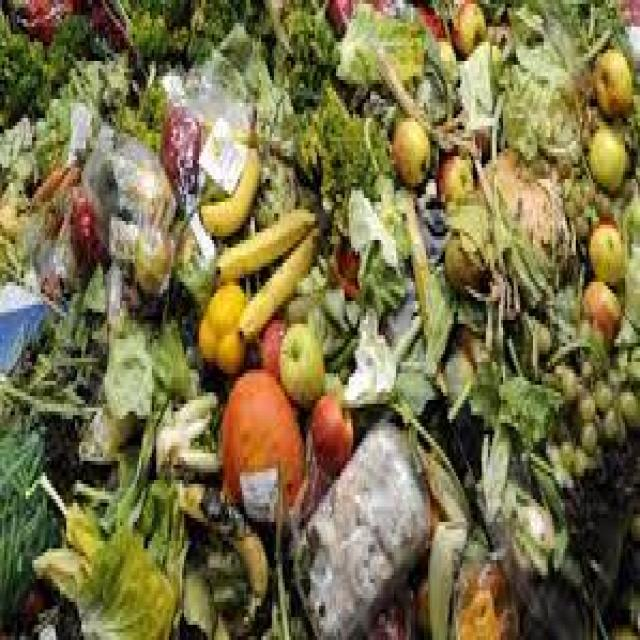Wet: (49, 436, 219, 634), (389, 222, 537, 412), (217, 370, 303, 508), (209, 254, 331, 336), (217, 211, 323, 277), (267, 316, 329, 397), (310, 391, 351, 463), (392, 122, 434, 190), (591, 131, 632, 195), (595, 51, 632, 116), (588, 222, 624, 281), (438, 151, 474, 205), (584, 276, 617, 330), (69, 206, 101, 259), (456, 3, 484, 58)
